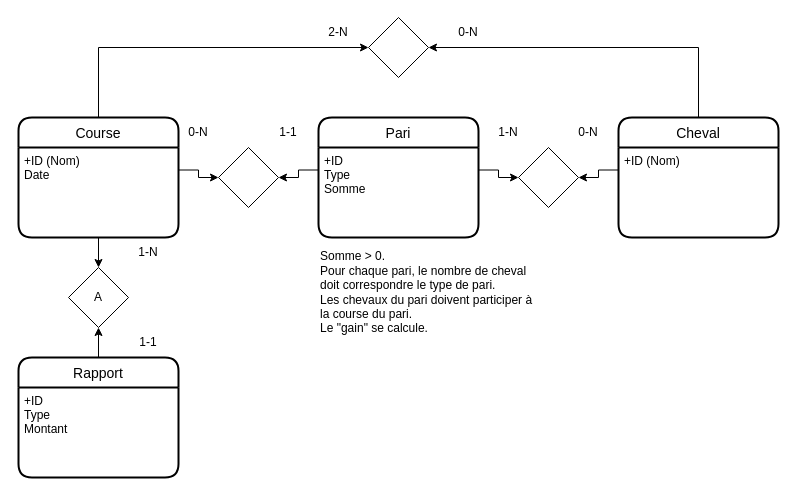
The diagram is 796 pixels wide and 496 high, and some of its shapes have lost their labels. The centre of each missing label's shape, as x and y in pixels:
Concerne: (248,177)
Contient ordre: (548,177)
Participe numéro, cote, classement: (398,47)
